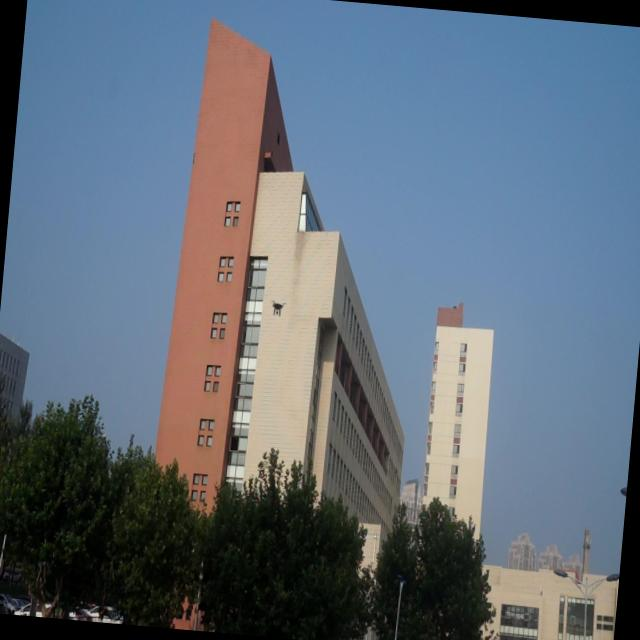drone: (268, 294, 286, 320)
